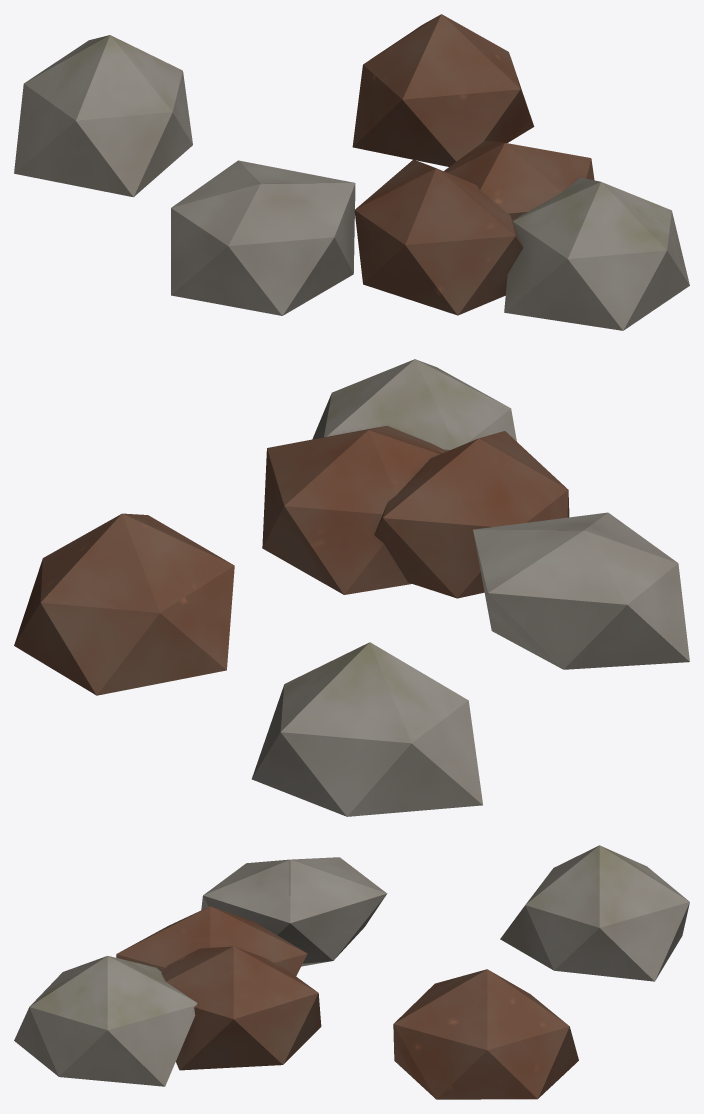
File: jazida_ferro.glb
3 views of the same model, one above another, from view 1: azimuth 30°, elevation 25°; view 2: azimuth 150°, elevation 25°; view 3: azimuth 270°, elevation 25° (orthographic). The views are drawn at different scales.
Visible parts, largest first — view 1: jazida_ferro; view 2: jazida_ferro; view 3: jazida_ferro.
Boxes of the visible parts, left/top/right/bottom form: jazida_ferro: left=14, top=14, right=689, bottom=330; jazida_ferro: left=14, top=359, right=689, bottom=816; jazida_ferro: left=14, top=845, right=689, bottom=1099.
Bounding box in the file's own units: 0.3862 × 0.1166 × 0.548.
Materials: 1 (1 with a texture image).
